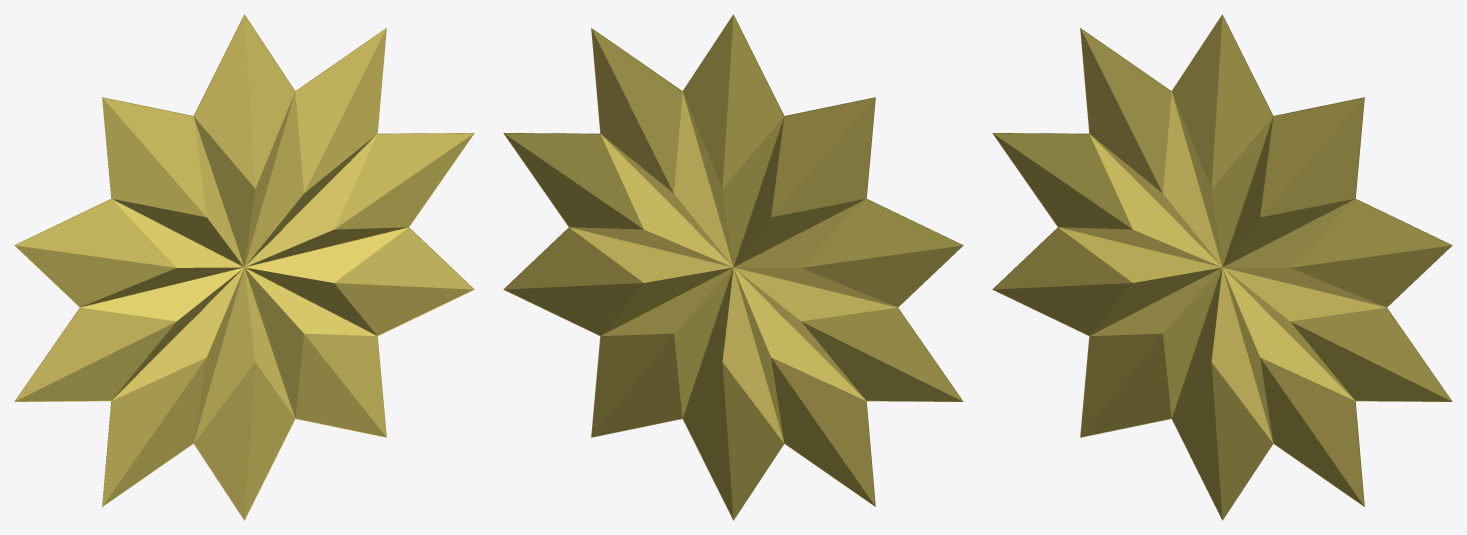
Rendered from star.glb.
3 views of the same model, side by side, from view 1: azimuth 30°, elevation 25°; view 2: azimuth 150°, elevation 25°; view 3: azimuth 330°, elevation 25° (orthographic).
Visible parts, largest first — view 1: 원형; view 2: 원형; view 3: 원형.
Boxes of the visible parts, x1,y1,x2,y2 form: 원형: (14,14,474,520); 원형: (503,14,963,520); 원형: (992,14,1452,520).
Bounding box in the file's own units: 0.8917 × 0.9376 × 0.0734.
